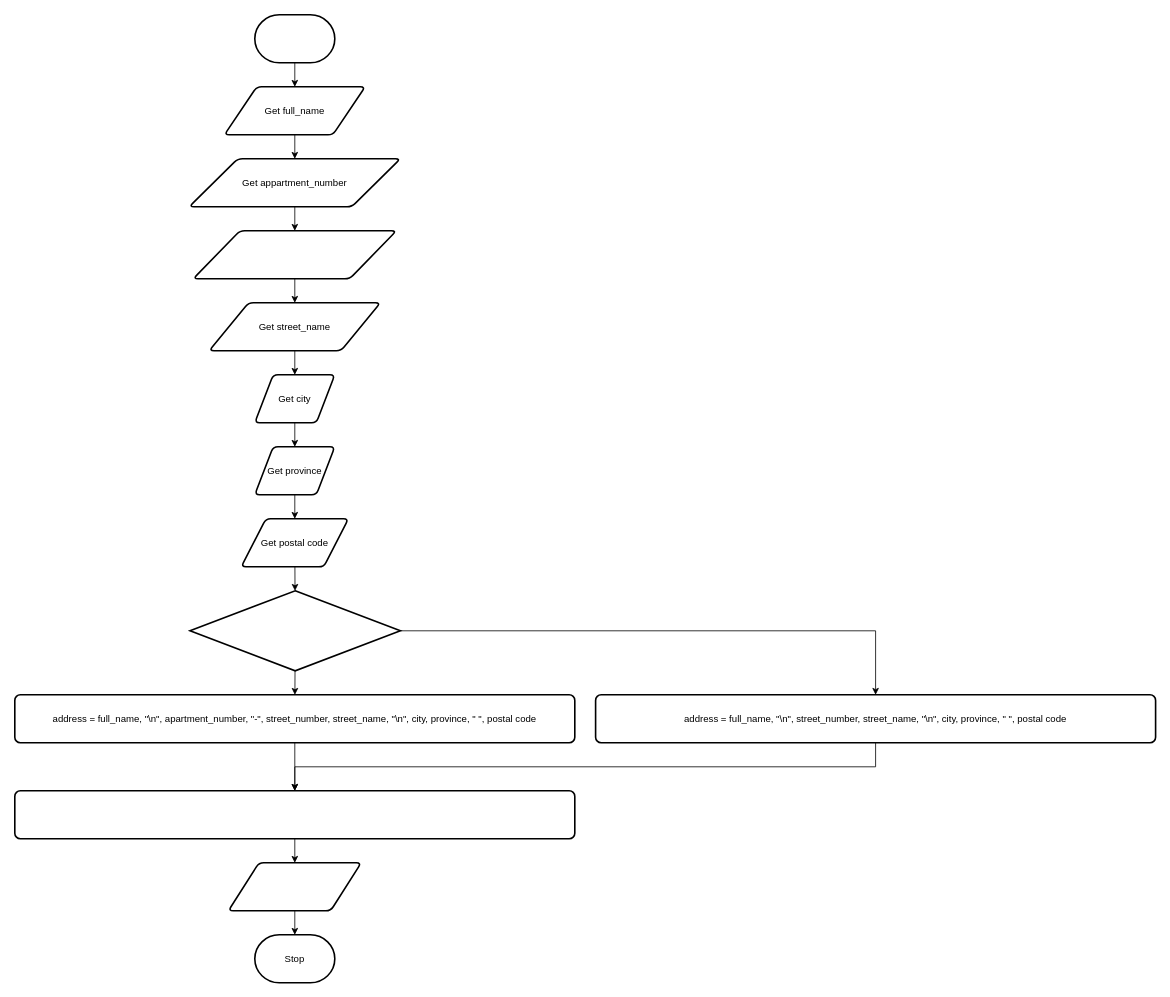
Some shapes in this 1170 by 997 pixel diagram are drawn without their labels. The shapes that lost their labels are listed below. From the top down, each one's centre as x and y in pixels, then its label:
point 294,38: Start
point 294,254: Get street_number
point 295,630: if apartment_number == ""
point 294,814: address = upper(address)
point 294,886: Return address
